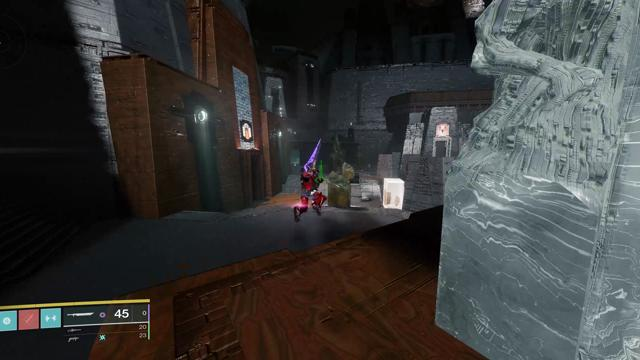give: (438, 126, 447, 135)
worship: (243, 123, 251, 140)
